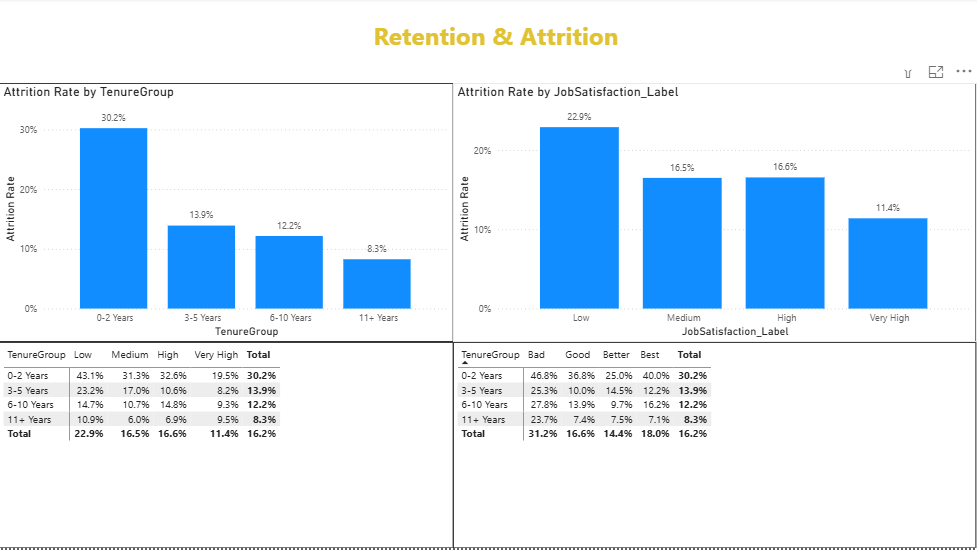

Layout of this report page (visuals, bound fields, positions):
{"tool":"powerbi","page":{"name":"Page 2","canvas":[1280,720],"ordinal":1},"visuals":[{"type":"clusteredColumnChart","fields":{"Category":["HR_Analytics_Cleaned_Master.TenureGroup"],"Y":["HR_Analytics_Cleaned_Master.Attrition Rate"]},"box":[0,110.9,594.6,339.3],"z":0},{"type":"clusteredColumnChart","fields":{"Category":["HR_Analytics_Cleaned_Master.JobSatisfaction_Label"],"Y":["HR_Analytics_Cleaned_Master.Attrition Rate"]},"box":[594.6,110.9,685.4,339.3],"z":1000},{"type":"pivotTable","fields":{"Rows":["HR_Analytics_Cleaned_Master.TenureGroup"],"Columns":["HR_Analytics_Cleaned_Master.JobSatisfaction_Label"],"Values":["HR_Analytics_Cleaned_Master.Attrition Rate"]},"box":[0,450.2,594.6,270.4],"z":2000},{"type":"pivotTable","fields":{"Rows":["HR_Analytics_Cleaned_Master.TenureGroup"],"Columns":["HR_Analytics_Cleaned_Master.WorkLifeBalance_Label"],"Values":["HR_Analytics_Cleaned_Master.Attrition Rate"]},"box":[594.6,450.2,685.4,270.4],"z":3000},{"type":"textbox","box":[99.1,20.6,1102.5,72.9],"z":4000}]}

Visuals, with their boxes in screenshot pixels (x1, y1, x2, y2), scaled from the page's 1280x720 canvas onto the 977x552 screenshot:
clusteredColumnChart - HR_Analytics_Cleaned_Master.TenureGroup x HR_Analytics_Cleaned_Master.Attrition Rate: rect(0, 85, 454, 345)
clusteredColumnChart - HR_Analytics_Cleaned_Master.JobSatisfaction_Label x HR_Analytics_Cleaned_Master.Attrition Rate: rect(454, 85, 976, 345)
pivotTable - HR_Analytics_Cleaned_Master.TenureGroup x HR_Analytics_Cleaned_Master.JobSatisfaction_Label: rect(0, 345, 454, 551)
pivotTable - HR_Analytics_Cleaned_Master.TenureGroup x HR_Analytics_Cleaned_Master.WorkLifeBalance_Label: rect(454, 345, 976, 551)
textbox: rect(76, 16, 917, 72)
